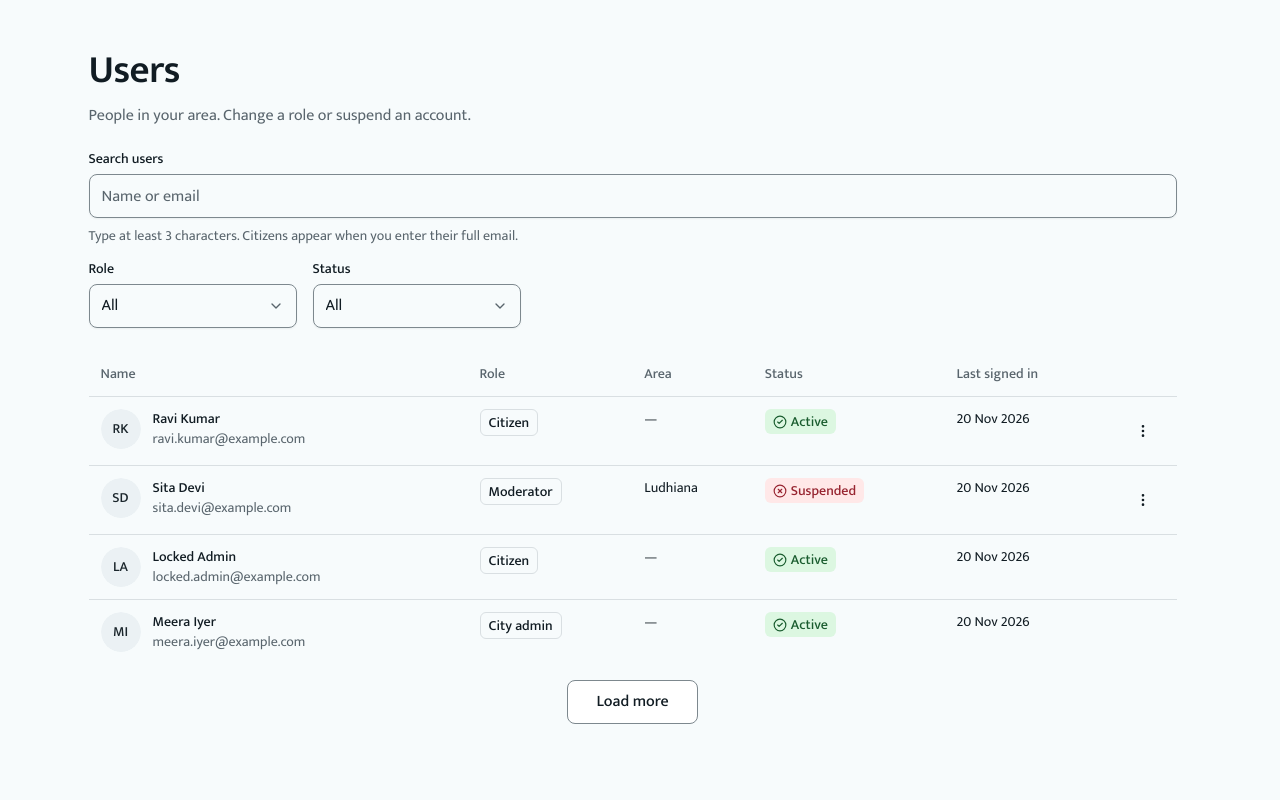
Test: Admin Users › suspend and reactivate › a server 403 shows in the dialog and keeps it open
Check: the text "Ravi Kumar" is shown, box [152,407,220,430]
Press Enter in the button named "Actions for Ravi Kumar", box [1120,409,1164,453]
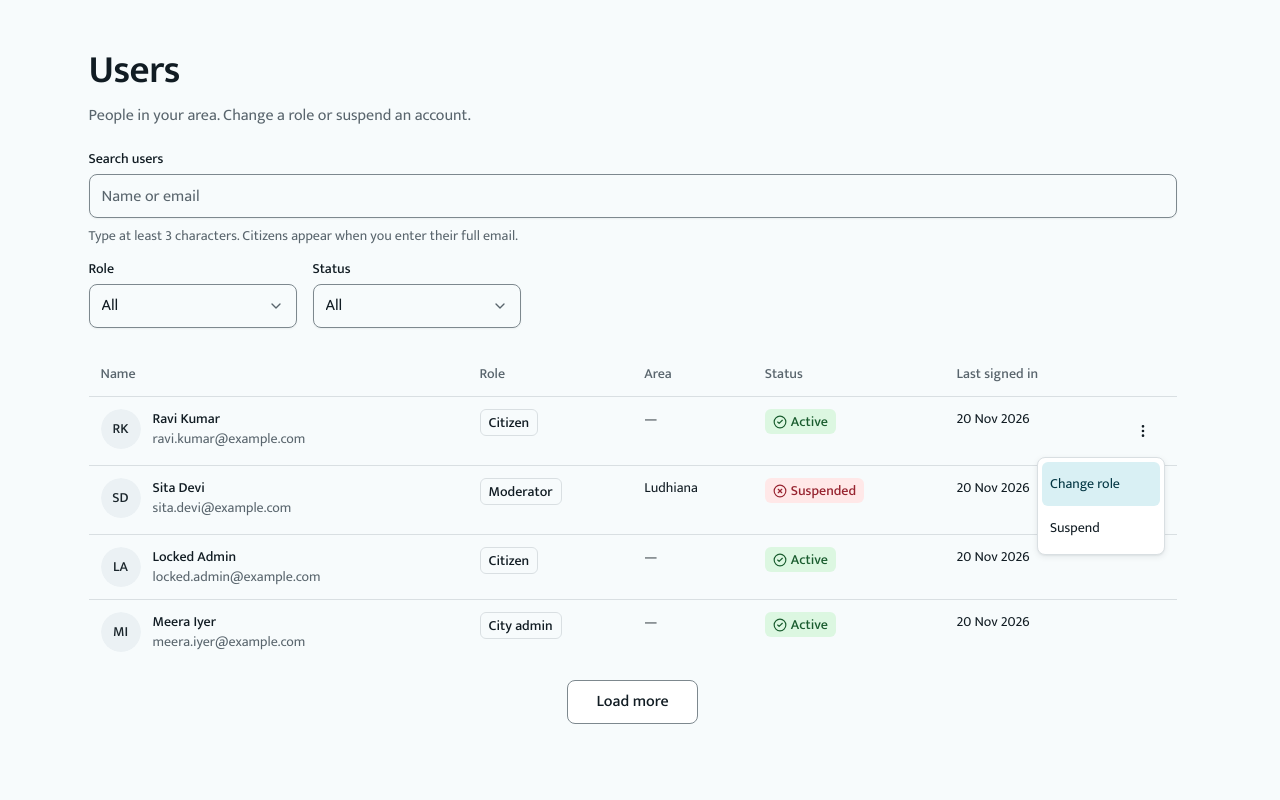
Click the menu item "Suspend": [1075, 528] box [1050,516,1100,539]
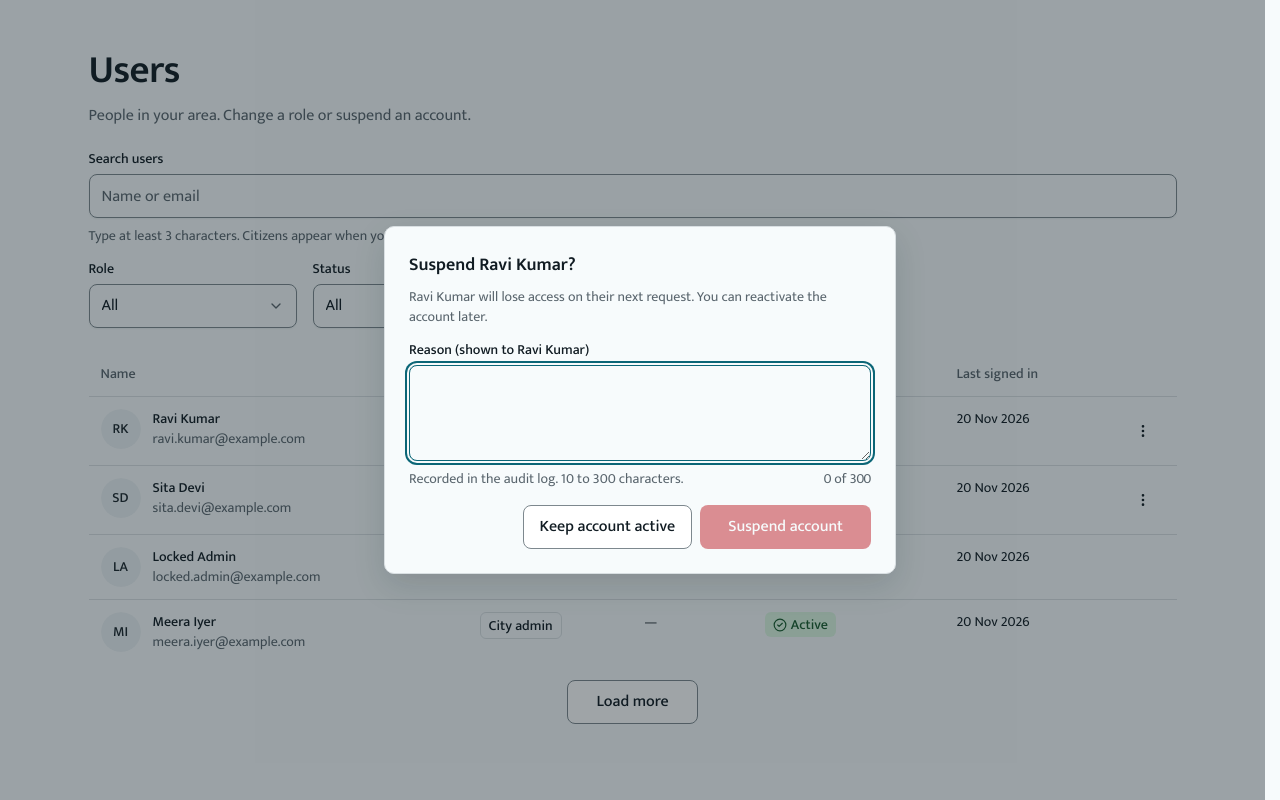
In the text box labelled "Reason (shown to Ravi Kumar)": [640, 413] box [409,365,871,461], type "Posted spam repeatedly"
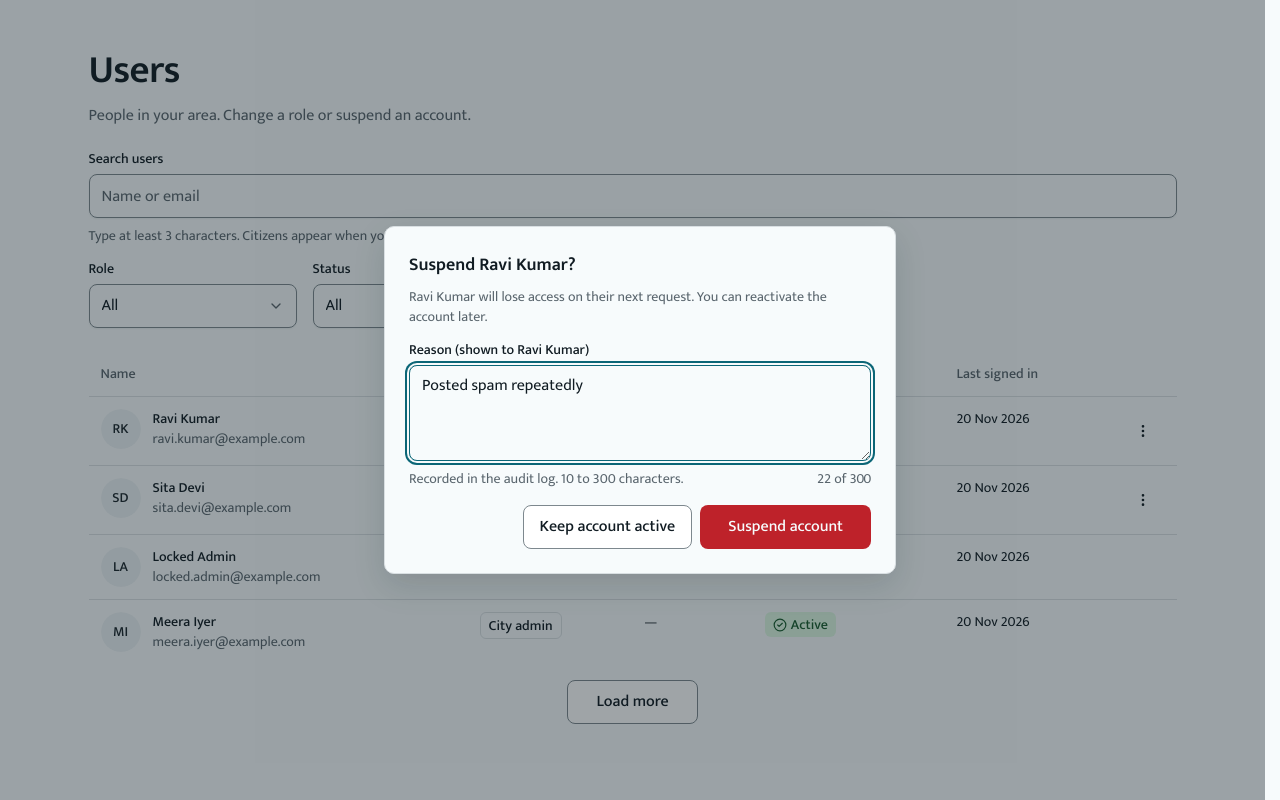
Click the button "Suspend account": [786, 527] box [700,505,871,549]
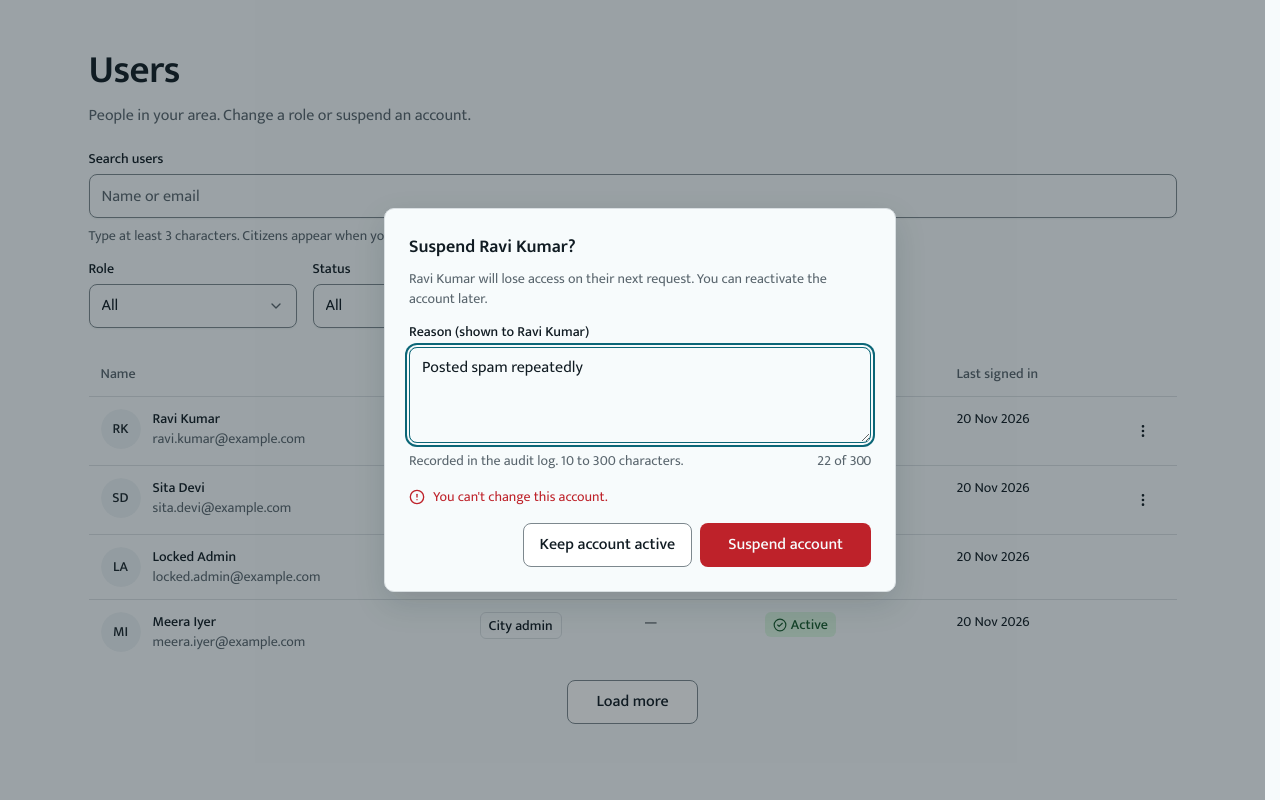
Check: the message reads "You can't change this account.", box [433,485,608,508]
